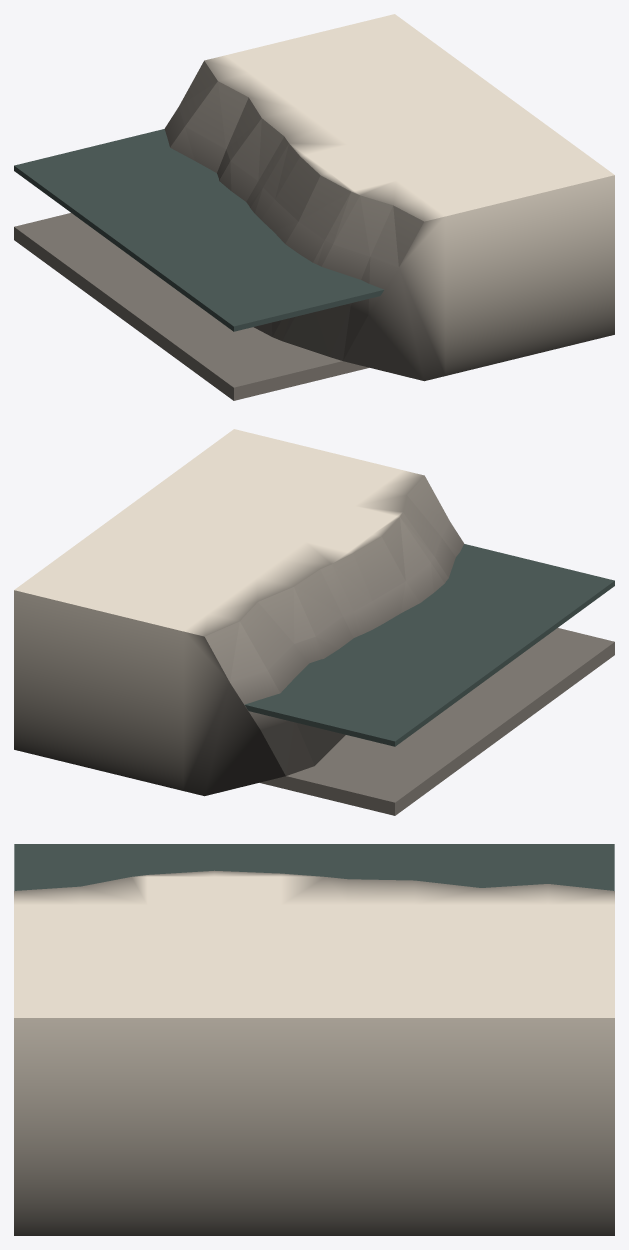
The model's file is SM_VKI_Ground_Stream_XOOX_Q10.fbx.
The picture shows the model from 3 angles, top to bottom: view 1: azimuth 30°, elevation 25°; view 2: azimuth 150°, elevation 25°; view 3: azimuth 270°, elevation 25°; orthographic projection. The views are drawn at different scales.
Parts seen in each view (by area): view 1: SM_VKI_Ground_Stream_XOOX_Q10.001; view 2: SM_VKI_Ground_Stream_XOOX_Q10.001; view 3: SM_VKI_Ground_Stream_XOOX_Q10.001.
Part boxes in pixels (box(x1,y1,x2,y2)): SM_VKI_Ground_Stream_XOOX_Q10.001: box(14, 14, 614, 400); SM_VKI_Ground_Stream_XOOX_Q10.001: box(14, 429, 614, 815); SM_VKI_Ground_Stream_XOOX_Q10.001: box(14, 844, 614, 1235).
Bounding box in the file's own units: 1.5 × 0.6 × 1.5.
